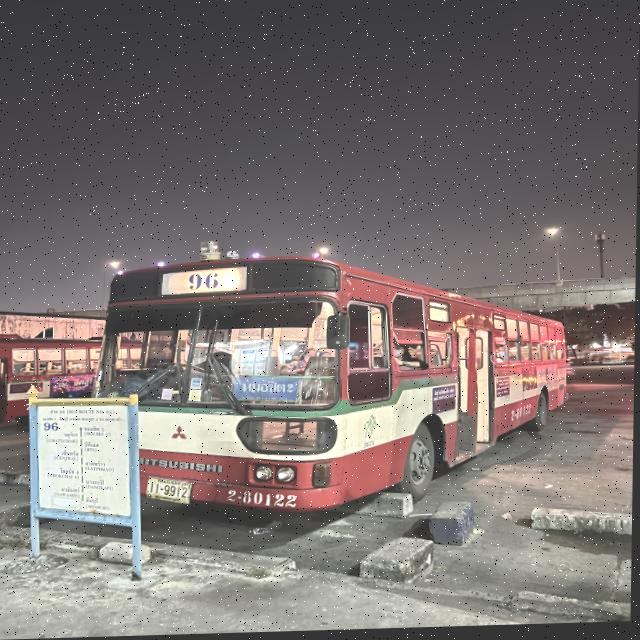BMTA-bus: (56, 237, 575, 525)
Bus-Line-Number: (181, 267, 232, 300)
Destination-Sign-Normal: (234, 381, 301, 406)
